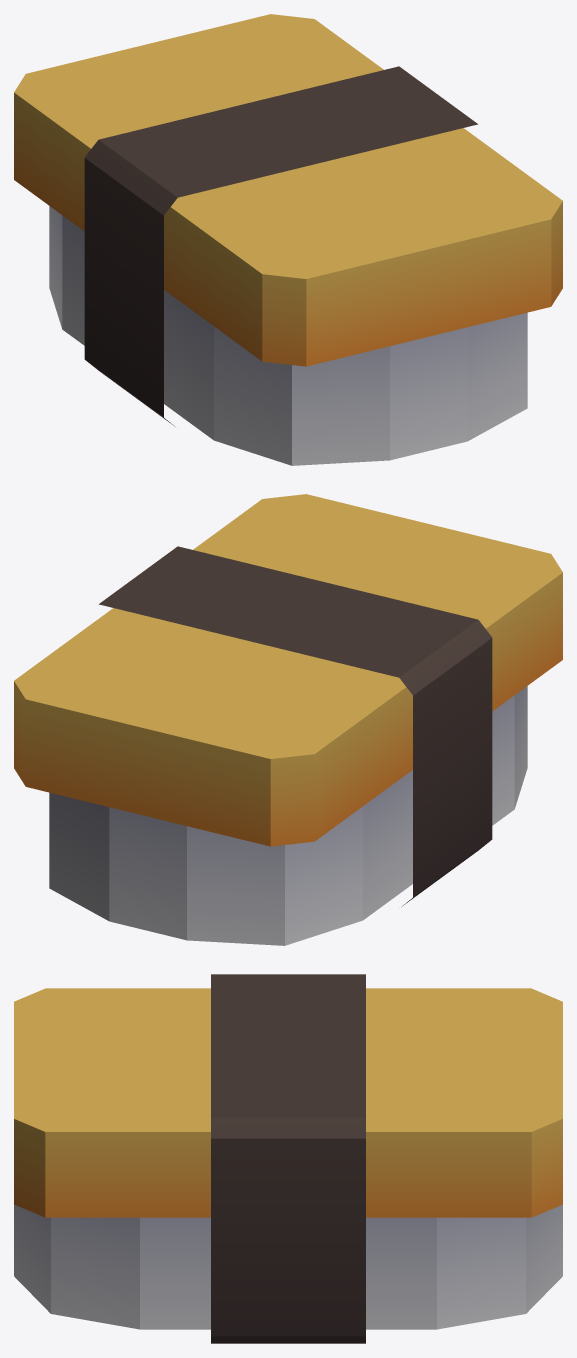
File: sushi-egg.glb
3 views of the same model, one above another, from view 1: azimuth 30°, elevation 25°; view 2: azimuth 150°, elevation 25°; view 3: azimuth 270°, elevation 25° (orthographic). The views are drawn at different scales.
Parts seen in each view (by area): view 1: geometry_0; view 2: geometry_0; view 3: geometry_0.
Part boxes in pixels (x1,y1,x2,y2): geometry_0: [14, 14, 562, 465]; geometry_0: [14, 494, 562, 945]; geometry_0: [14, 974, 562, 1343].
Bounding box in the file's own units: 0.7238 × 0.4861 × 1.07.
